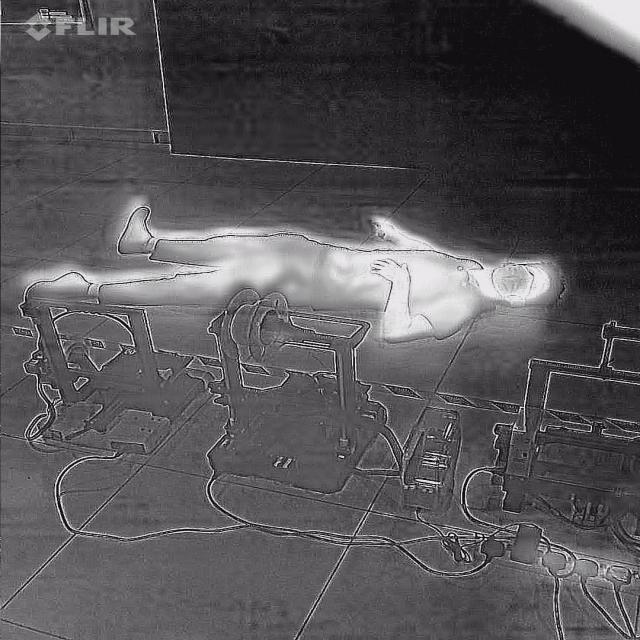Victim: (9, 200, 568, 346)
